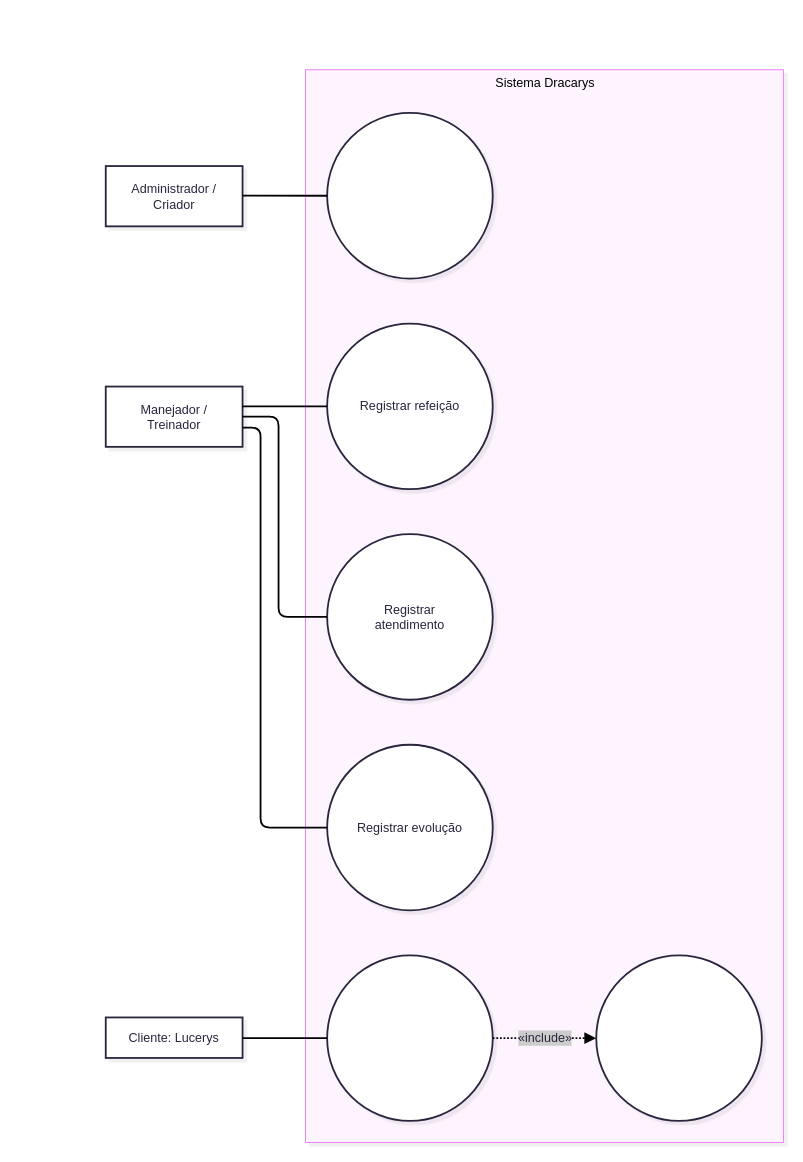
This 803x1162 diagram has some shape labels left out. The shapes that lost their labels are listed below. From the top down, each one's centre as x and y in pixels, then its label:
[411,197]: Cadastrar dragão
[411,1039]: Solicitar missão
[680,1039]: Verificar prontidão
